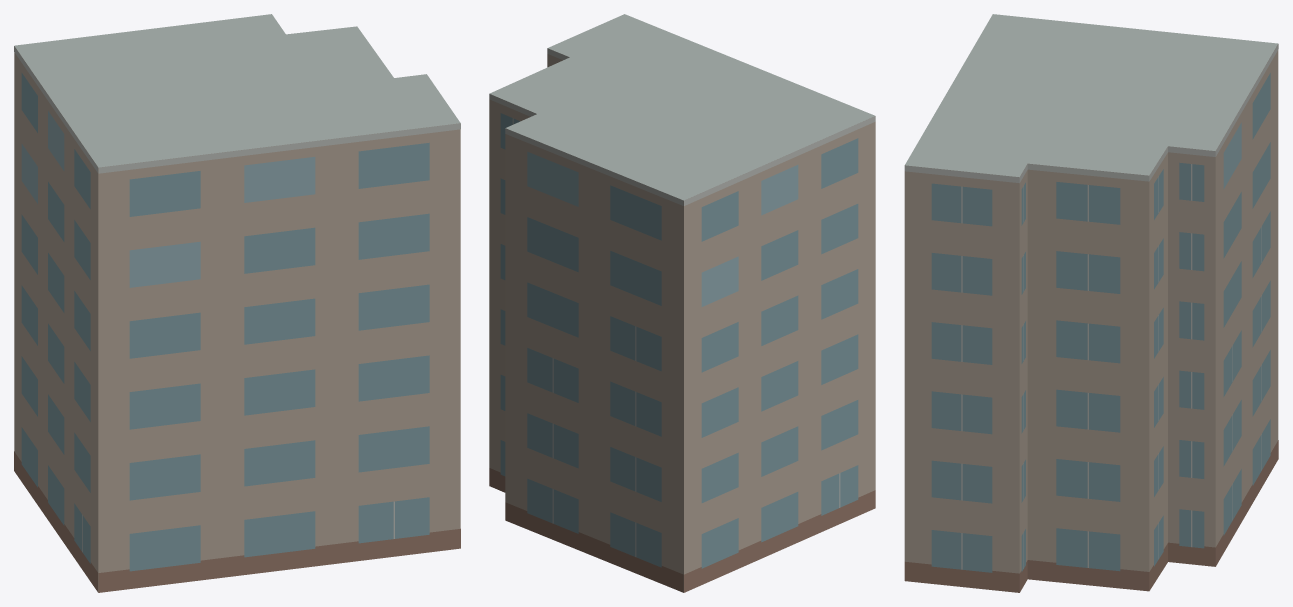
File: survey-upis-32871705.glb
The picture shows the model from 3 angles, left to right: view 1: azimuth 30°, elevation 25°; view 2: azimuth 150°, elevation 25°; view 3: azimuth 270°, elevation 25°; orthographic projection. The views are drawn at different scales.
Parts seen in each view (by area): view 1: survey-upis-32871705.tmp; view 2: survey-upis-32871705.tmp; view 3: survey-upis-32871705.tmp.
Part boxes in pixels (x1,y1,x2,y2): survey-upis-32871705.tmp: (14,14,460,592); survey-upis-32871705.tmp: (489,14,875,592); survey-upis-32871705.tmp: (904,14,1278,592).
Size of the model in its own units: 14.24 by 16.9 by 13.78.
